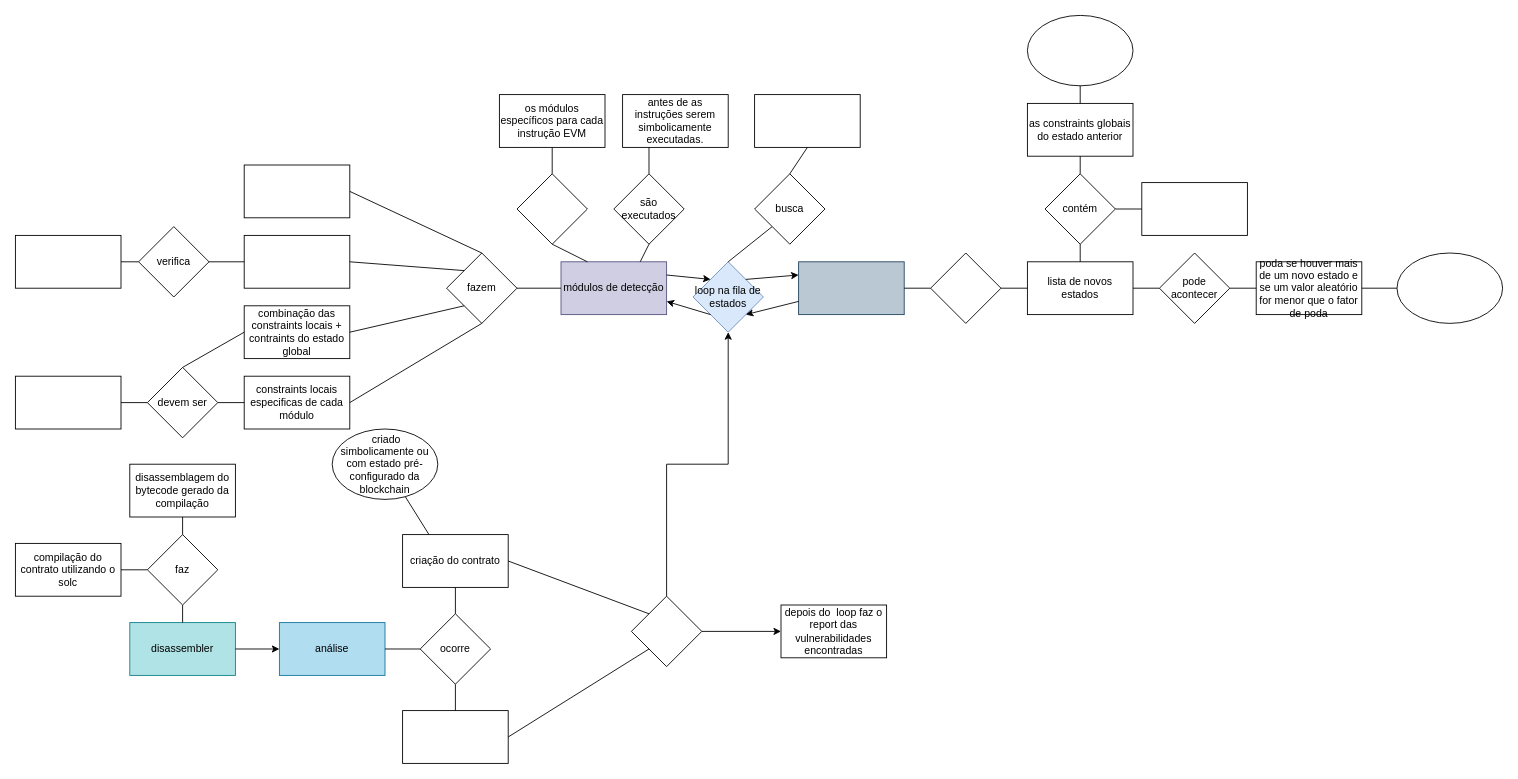
Image size: 1518x779. Some labels were removed from this diagram. Here are the shapes that lost their labels. From the top down, the centre of each, then its label:
At (x=1080, y=50): "caso tenha REVERT ou STOP as constraints globais se tornam da ultima bifurcação".
At (x=807, y=120): "busca o 1° estado da fila pois utiliza por padrão busca em largura (BFS)".
At (x=296, y=191): "atribuição da vulnerabilidade na lista de issues, caso tenha encontrado".
At (x=551, y=208): "selecionam".
At (x=1194, y=208): "próxima instrução EVM".
At (x=68, y=261): "satisfiabilidade da expressao booleana (constraints)".
At (x=296, y=261): "check utilizando o solver Z3".
At (x=851, y=288): "execução simbólica da instrução".
At (x=965, y=287): "gera".
At (x=1449, y=287): "Apenas os estados com restrições satisfiáveis são mantidos".
At (x=68, y=402): "expressões de vetor de bits Z3".
At (x=666, y=631): "entra no loop".
At (x=455, y=736): "transações simbólicas depois da criação do contrato".
